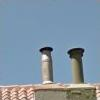Chimney: (36, 40, 91, 87)
